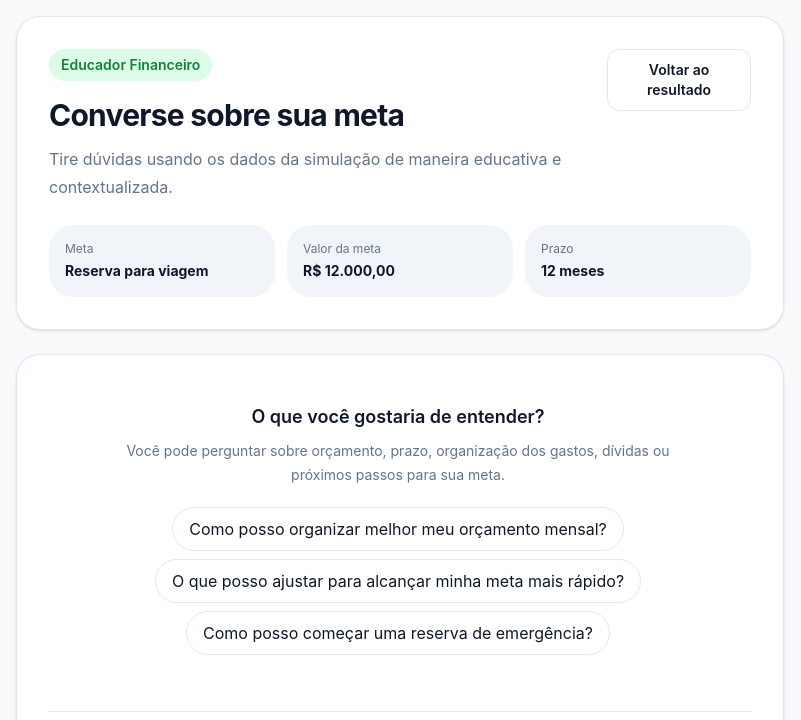
Test: ChatPage › preenche uma pergunta sugerida e direciona o foco ao campo
Click the button "Como posso organizar melhor meu orçamento mensal?": (398, 529) top-left (172, 507), bottom-right (624, 551)
(page scrolled)
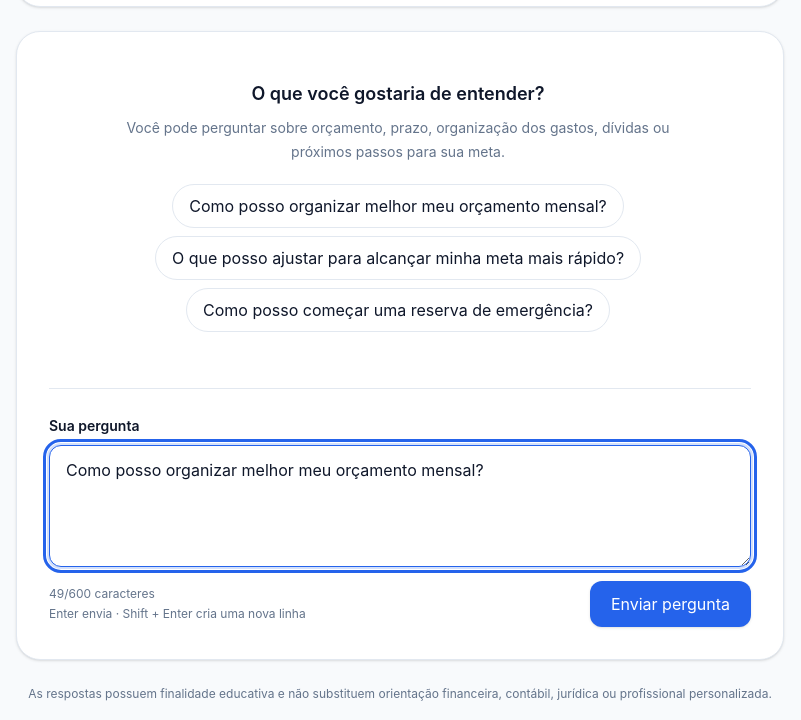
Result: the text box labelled "Sua pergunta" holds "Como posso organizar melhor meu orçamento mensal?" at top-left (49, 445), bottom-right (751, 567)
Result: the button "Enviar pergunta" is enabled at top-left (590, 581), bottom-right (751, 627)
